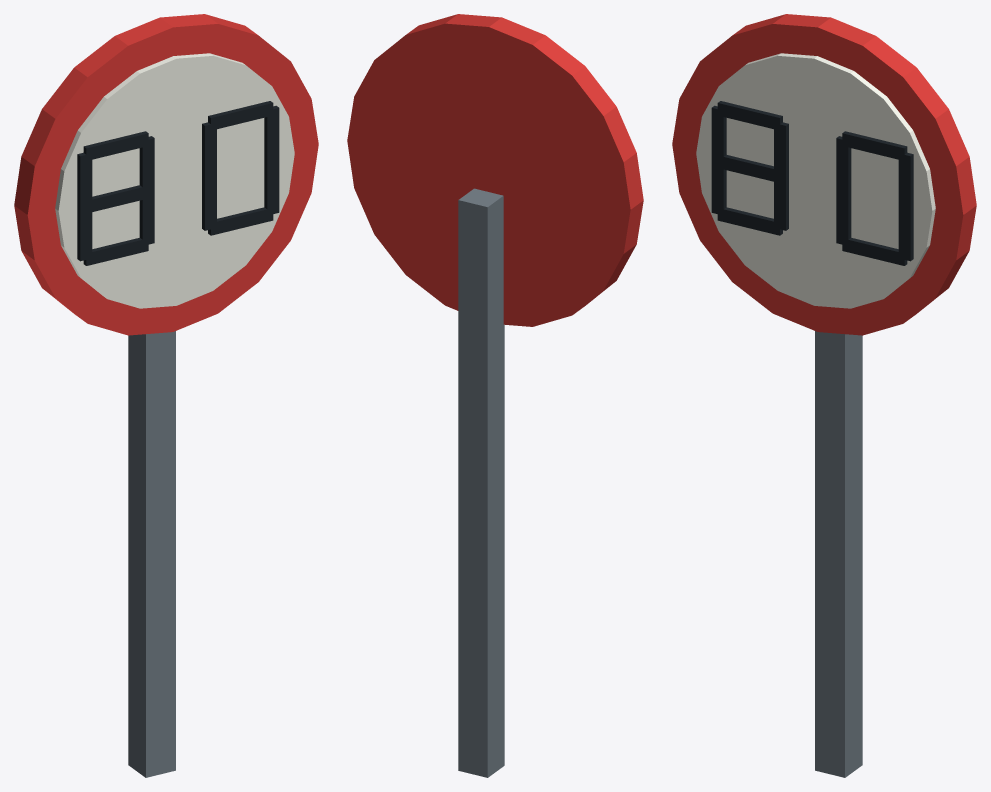
The model's file is speed_limit_80.glb.
The picture shows the model from 3 angles, left to right: view 1: azimuth 30°, elevation 25°; view 2: azimuth 150°, elevation 25°; view 3: azimuth 330°, elevation 25°; orthographic projection. The views are drawn at different scales.
Visible parts, largest first — view 1: White speed face, Red speed border, Steel sign post, 8 segment 0-a, 0 segment 1-a, 0 segment 1-d, 8 segment 0-d, 8 segment 0-g, 8 segment 0-e, 8 segment 0-f, 0 segment 1-b, 0 segment 1-f (+4 smaller); view 2: Red speed border, Steel sign post; view 3: White speed face, Red speed border, Steel sign post, 0 segment 1-a, 8 segment 0-a, 0 segment 1-d, 8 segment 0-d, 8 segment 0-g, 0 segment 1-c, 0 segment 1-b, 8 segment 0-b, 0 segment 1-f (+4 smaller).
Boxes of the visible parts, left/top/right/bottom form: White speed face: left=55, top=53, right=294, bottom=308; Red speed border: left=14, top=14, right=318, bottom=335; Steel sign post: left=128, top=331, right=175, bottom=777; 8 segment 0-a: left=83, top=131, right=148, bottom=160; 0 segment 1-a: left=208, top=101, right=273, bottom=130; 0 segment 1-d: left=208, top=207, right=273, bottom=235; 8 segment 0-d: left=83, top=237, right=148, bottom=265; 8 segment 0-g: left=86, top=185, right=148, bottom=212; 8 segment 0-e: left=77, top=206, right=92, bottom=261; 8 segment 0-f: left=77, top=152, right=92, bottom=208; 0 segment 1-b: left=264, top=105, right=279, bottom=162; 0 segment 1-f: left=202, top=122, right=216, bottom=178; Red speed border: left=347, top=14, right=643, bottom=326; Steel sign post: left=458, top=188, right=504, bottom=777; White speed face: left=696, top=53, right=935, bottom=308; Red speed border: left=672, top=14, right=976, bottom=335; Steel sign post: left=815, top=331, right=862, bottom=777; 0 segment 1-a: left=842, top=131, right=907, bottom=160; 8 segment 0-a: left=717, top=101, right=782, bottom=130; 0 segment 1-d: left=842, top=237, right=907, bottom=265; 8 segment 0-d: left=717, top=207, right=782, bottom=235; 8 segment 0-g: left=717, top=155, right=779, bottom=182; 0 segment 1-c: left=898, top=206, right=913, bottom=261; 0 segment 1-b: left=898, top=152, right=913, bottom=208; 8 segment 0-b: left=774, top=122, right=788, bottom=178; 0 segment 1-f: left=836, top=136, right=851, bottom=193.
Size of the model in its own units: 1.06 by 2.63 by 0.229.
